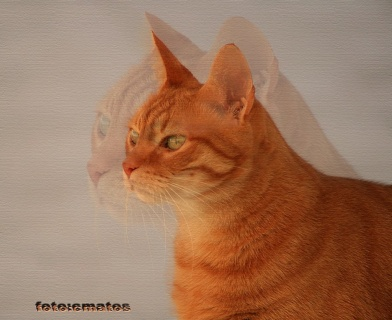Cat: (122, 30, 391, 319)
